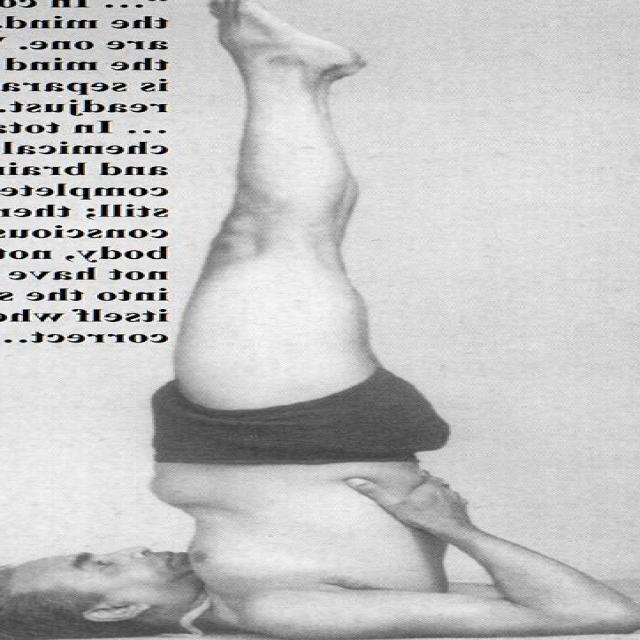yoga-pose shoulderstand: (50, 0, 640, 635)
